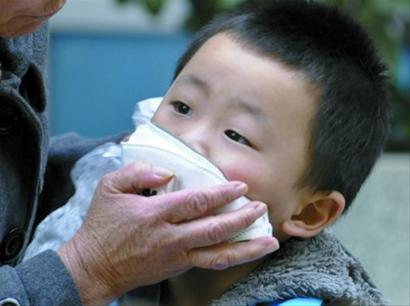face: (145, 63, 283, 244)
